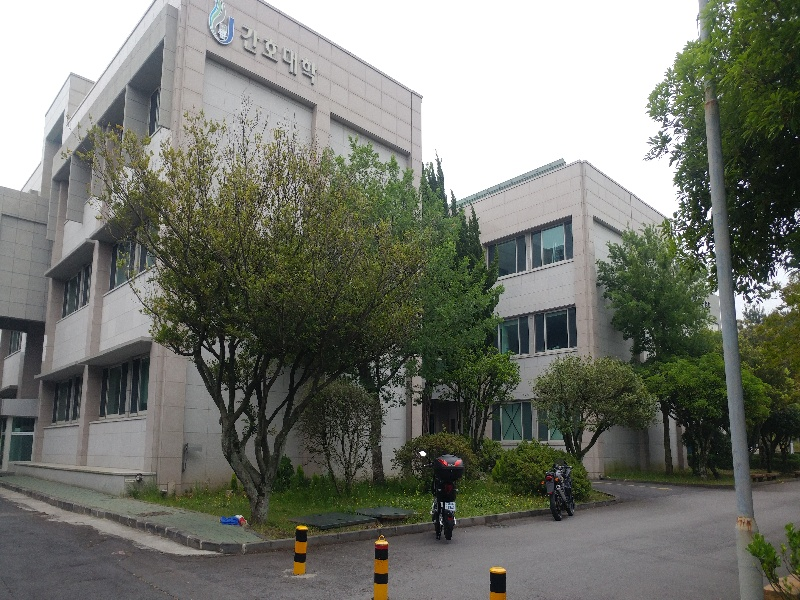College of Nursing: (34, 25, 424, 478), (202, 6, 335, 105)
Cultural lecture hall: (456, 181, 692, 450)
